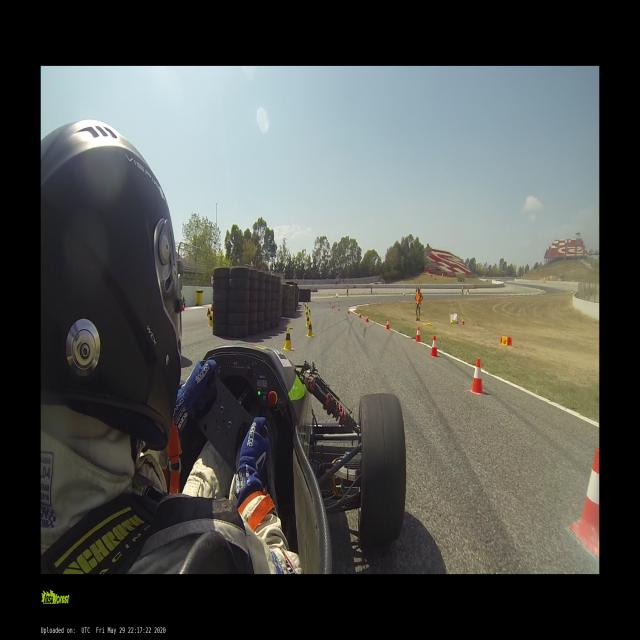orange_cone: (570, 445, 599, 556), (468, 357, 486, 396), (430, 336, 438, 358), (415, 327, 421, 342), (386, 318, 390, 330), (508, 337, 512, 345), (366, 313, 369, 323), (359, 311, 362, 318), (182, 304, 185, 311), (500, 336, 502, 344), (462, 317, 464, 324), (348, 308, 350, 314), (211, 304, 213, 310), (338, 307, 339, 311), (332, 305, 333, 309), (349, 304, 350, 308), (355, 302, 356, 306), (361, 302, 362, 305), (334, 304, 334, 308)
yellow_cone: (282, 326, 293, 351), (306, 320, 314, 337), (306, 314, 310, 326), (502, 336, 507, 345), (209, 313, 212, 325), (208, 306, 210, 318), (306, 311, 308, 319), (450, 320, 454, 324), (304, 304, 306, 309), (309, 308, 310, 316), (307, 306, 308, 312), (307, 300, 308, 305), (318, 300, 319, 304), (347, 299, 348, 302), (306, 304, 306, 310), (304, 302, 304, 307), (330, 301, 330, 305), (338, 300, 338, 304)
